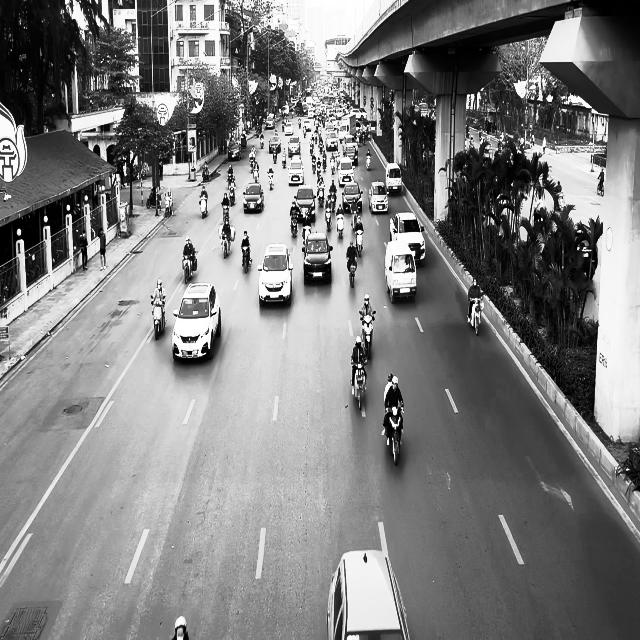car: (326, 550, 411, 640), (172, 282, 221, 362), (257, 242, 293, 306), (384, 240, 417, 303), (389, 211, 426, 266), (301, 231, 333, 285), (295, 185, 316, 221), (368, 181, 389, 213), (342, 181, 363, 213), (243, 182, 264, 212), (385, 162, 402, 194), (288, 157, 304, 186), (228, 140, 241, 160)
motorbike: (385, 406, 404, 466), (351, 357, 367, 411), (360, 310, 376, 359), (467, 294, 484, 336), (150, 297, 166, 340), (218, 224, 236, 258), (182, 251, 195, 283), (241, 246, 252, 274), (346, 258, 356, 287), (290, 212, 298, 238), (199, 196, 208, 218), (266, 169, 274, 190), (597, 176, 604, 196), (366, 152, 371, 170)
